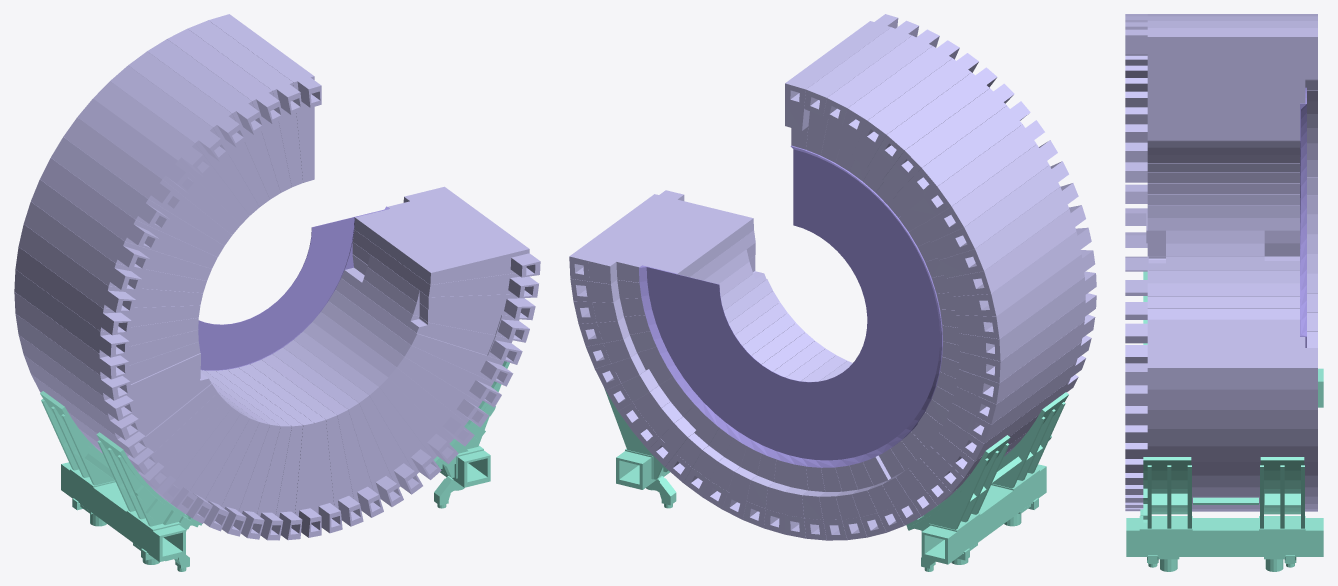
Rendered from Tile-End-Cap-SideA-cut4.glb.
The picture shows the model from 3 angles, left to right: view 1: azimuth 30°, elevation 25°; view 2: azimuth 150°, elevation 25°; view 3: azimuth 270°, elevation 25°; orthographic projection.
Parts seen in each view (by area): view 1: null; view 2: null; view 3: null.
Part boxes in pixels (x1,y1,x2,y2): null: (14, 14, 540, 571); null: (569, 14, 1096, 571); null: (1125, 14, 1323, 571).
Size of the model in its own units: 8.47 by 8.73 by 3.37.
